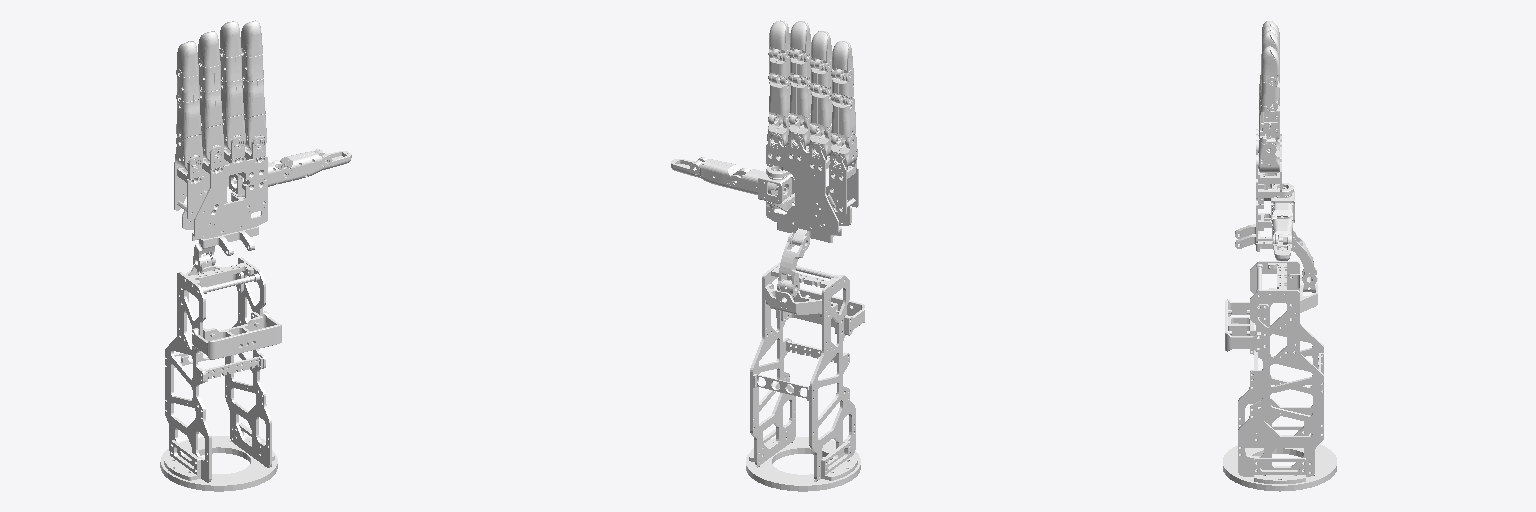
--- What the picture shows (computed from the rendered views, not written in the file) ---
Views: 3 orthographic renders of the robot side by side, from view 1: azimuth 30°, elevation 25°; view 2: azimuth 150°, elevation 25°; view 3: azimuth 270°, elevation 25°.
Robot: dexhand — 33 links, 32 joints (20 revolute, 12 fixed); root link world; default pose: every joint at zero.
Visible links, largest first — view 1: fabase, palm, lfpalm, thmiddle, lfproximal, pmbase, mfproximal, rfproximal, ffproximal, lfbase, rfdistal, lfdistal (+9 smaller); view 2: fabase, palm, lfpalm, falink1, lfproximal, thmiddle, thbase, mfproximal, ffproximal, rfproximal, thproximal, lfbase (+7 smaller); view 3: fabase, palm, ffproximal, falink1, ffbase, pmbase, ffdistal.
Link boxes in pixels (x1=…): fabase: x1=160, y1=257, x2=281, y2=491; palm: x1=182, y1=136, x2=267, y2=238; lfpalm: x1=174, y1=156, x2=206, y2=219; thmiddle: x1=280, y1=150, x2=328, y2=180; lfproximal: x1=176, y1=98, x2=201, y2=139; pmbase: x1=192, y1=226, x2=258, y2=255; mfproximal: x1=221, y1=78, x2=243, y2=119; rfproximal: x1=200, y1=87, x2=222, y2=129; ffproximal: x1=242, y1=78, x2=265, y2=119; lfbase: x1=175, y1=135, x2=202, y2=170; rfdistal: x1=198, y1=31, x2=220, y2=67; lfdistal: x1=177, y1=41, x2=198, y2=77; fabase: x1=746, y1=262, x2=864, y2=491; palm: x1=766, y1=139, x2=851, y2=234; lfpalm: x1=826, y1=159, x2=858, y2=215; falink1: x1=777, y1=232, x2=809, y2=294; lfproximal: x1=831, y1=94, x2=855, y2=137; thmiddle: x1=695, y1=158, x2=740, y2=187; thbase: x1=758, y1=169, x2=793, y2=208; mfproximal: x1=789, y1=74, x2=811, y2=118; ffproximal: x1=769, y1=74, x2=790, y2=117; rfproximal: x1=810, y1=84, x2=832, y2=128; thproximal: x1=729, y1=168, x2=783, y2=195; lfbase: x1=830, y1=134, x2=857, y2=167; fabase: x1=1223, y1=261, x2=1336, y2=491; palm: x1=1256, y1=134, x2=1293, y2=242; ffproximal: x1=1259, y1=101, x2=1279, y2=143; falink1: x1=1292, y1=230, x2=1316, y2=285; ffbase: x1=1258, y1=139, x2=1279, y2=172; pmbase: x1=1235, y1=224, x2=1272, y2=251; ffdistal: x1=1262, y1=46, x2=1279, y2=82.
Size in the robot's own frame: 0.1976 by 0.1099 by 0.4619 metres.
26 mesh visuals loaded from 26 distinct referenced files (26 binary STL).

URDF robot description (dexhand):
<?xml version="1.0" ?>
<!-- =================================================================================== -->
<!-- |    This document was autogenerated by xacro from ./dexhand1.urdf.xacro          | -->
<!-- |    EDITING THIS FILE BY HAND IS NOT RECOMMENDED                                 | -->
<!-- =================================================================================== -->
<robot name="dexhand">
  <!-- create link fixed to the "world" -->
  <link name="world"/>
  <!-- define a joint connect to other part of robot -->
  <joint name="FOREARM" type="fixed">
    <origin rpy="0 0 0" xyz="0 0 0"/>
    <parent link="world"/>
    <child link="fabase"/>
  </joint>
  <!-- pure URDF goes below -->
  <link name="fabase">
    <inertial>
      <origin rpy="0 0 0" xyz="3.28758629066675E-07 -0.00280049370465237 0.0716119954420033"/>
      <mass value="0.116733232194003"/>
      <inertia ixx="0.000208688922136791" ixy="-1.09031140514313E-09" ixz="-2.33671160073293E-11" iyy="0.00019711724481563" iyz="-1.2662112896217E-06" izz="0.000114813277747077"/>
    </inertial>
    <visual>
      <origin rpy="0 0 0" xyz="0 0 0"/>
      <geometry>
        <mesh filename="meshes/fabase.STL"/>
      </geometry>
      <material name="">
        <color rgba="1 1 1 1"/>
      </material>
    </visual>
    <collision>
      <origin rpy="0 0 0" xyz="0 0 0"/>
      <geometry>
        <mesh filename="meshes/fabase.STL"/>
      </geometry>
    </collision>
  </link>
  <link name="falink2">
    <inertial>
      <origin rpy="0 0 0" xyz="8.10398166975479E-09 -4.01177173158664E-10 0.00549999656729894"/>
      <mass value="0.00127776584823899"/>
      <inertia ixx="5.01863386521225E-08" ixy="1.49370815701381E-14" ixz="5.14504997849144E-14" iyy="5.01863212003858E-08" iyz="-1.71620476408047E-14" izz="2.33715865191686E-08"/>
    </inertial>
    <visual>
      <origin rpy="0 0 0" xyz="0 0 0"/>
      <geometry>
        <mesh filename="meshes/falink2.STL"/>
      </geometry>
      <material name="">
        <color rgba="1 1 1 1"/>
      </material>
    </visual>
    <collision>
      <origin rpy="0 0 0" xyz="0 0 0"/>
      <geometry>
        <mesh filename="meshes/falink2.STL"/>
      </geometry>
    </collision>
  </link>
  <joint name="FAJ3" type="fixed">
    <origin rpy="0 0 1.5708" xyz="0 0.028001 0.1905"/>
    <parent link="fabase"/>
    <child link="falink2"/>
    <axis xyz="1 0 0"/>
    <limit acceleration="2.0" effort="0.1" lower="-0.5235" upper="0.5235" velocity="2.0"/>
  </joint>
  <link name="falink1">
    <inertial>
      <origin rpy="0 0 0" xyz="0.000716824630949655 -0.00609542828247423 0.0212910082526262"/>
      <mass value="0.00472896842585646"/>
      <inertia ixx="6.54620610890924E-07" ixy="-4.59836910833344E-09" ixz="-2.31746933177867E-09" iyy="6.07258952527567E-07" iyz="2.13128089899764E-07" izz="2.91836021108035E-07"/>
    </inertial>
    <visual>
      <origin rpy="0 0 0" xyz="0 0 0"/>
      <geometry>
        <mesh filename="meshes/falink1.STL"/>
      </geometry>
      <material name="">
        <color rgba="1 1 1 1"/>
      </material>
    </visual>
    <collision>
      <origin rpy="0 0 0" xyz="0 0 0"/>
      <geometry>
        <mesh filename="meshes/falink1.STL"/>
      </geometry>
    </collision>
  </link>
  <joint name="FAJ2" type="fixed">
    <origin rpy="0 0 -1.5708" xyz="0 0 0.011"/>
    <parent link="falink2"/>
    <child link="falink1"/>
  </joint>
  <link name="pmbase">
    <inertial>
      <origin rpy="0 0 0" xyz="8.53609692686815E-07 -0.024308776882631 0.00431490414497454"/>
      <mass value="0.00601940125483358"/>
      <inertia ixx="1.1544501152982E-06" ixy="3.47744097896483E-15" ixz="3.94374970071965E-14" iyy="1.62966970781033E-06" iyz="-3.95045587346745E-08" izz="2.68292417958557E-06"/>
    </inertial>
    <visual>
      <origin rpy="0 0 0" xyz="0 0 0"/>
      <geometry>
        <mesh filename="meshes/pmbase.STL"/>
      </geometry>
      <material name="">
        <color rgba="1 1 1 1"/>
      </material>
    </visual>
    <collision>
      <origin rpy="0 0 0" xyz="0 0 0"/>
      <geometry>
        <mesh filename="meshes/pmbase.STL"/>
      </geometry>
    </collision>
  </link>
  <joint name="FAJ1" type="fixed">
    <origin rpy="0 0 0" xyz="0 -0.0193 0.039"/>
    <parent link="falink1"/>
    <child link="pmbase"/>
    <axis xyz="-1 0 0"/>
    <limit acceleration="2.0" effort="0.1" lower="-0.2618" upper="0.5235" velocity="2.0"/>
  </joint>
  <!-- define a joint connect to other part of robot -->
  <joint name="PALM" type="fixed">
    <origin rpy="0 0 0" xyz="0 -0.0193 0.01"/>
    <parent link="pmbase"/>
    <child link="palm"/>
  </joint>
  <!-- pure URDF goes below -->
  <link name="palm">
    <inertial>
      <origin rpy="0 0 0" xyz="0.00467315921354322 -7.47612565492224E-06 0.0411612387388328"/>
      <mass value="0.0289828312541729"/>
      <inertia ixx="1.04474964158207E-05" ixy="1.02450222919575E-10" ixz="-1.80668551272074E-06" iyy="1.71178957503239E-05" iyz="2.35190736196329E-08" izz="8.47407472988603E-06"/>
    </inertial>
    <visual>
      <origin rpy="0 0 0" xyz="0 0 0"/>
      <geometry>
        <mesh filename="meshes/palm.STL"/>
      </geometry>
      <material name="">
        <color rgba="1 1 1 1"/>
      </material>
    </visual>
    <collision>
      <origin rpy="0 0 0" xyz="0 0 0"/>
      <geometry>
        <mesh filename="meshes/palm.STL"/>
      </geometry>
    </collision>
  </link>
  <link name="thbase">
    <inertial>
      <origin rpy="0 0 0" xyz="-0.00179428684346725 2.09600788479009E-08 0.00147248530806168"/>
      <mass value="0.00644352672209423"/>
      <inertia ixx="5.42712823895272E-07" ixy="4.57090657604939E-14" ixz="-2.41334457846003E-09" iyy="6.96430068620061E-07" iyz="2.45814092128719E-13" izz="8.14232088259366E-07"/>
    </inertial>
    <visual>
      <origin rpy="0 0 0" xyz="0 0 0"/>
      <geometry>
        <mesh filename="meshes/thbase.STL"/>
      </geometry>
      <material name="">
        <color rgba="1 1 1 1"/>
      </material>
    </visual>
    <collision>
      <origin rpy="0 0 0" xyz="0 0 0"/>
      <geometry>
        <mesh filename="meshes/thbase.STL"/>
      </geometry>
    </collision>
  </link>
  <joint name="THJ4" type="revolute">
    <origin rpy="3.14159 -1.5708 0" xyz="0.026851 0.01315 0.038"/>
    <parent link="palm"/>
    <child link="thbase"/>
    <axis xyz="1 0 0"/>
    <limit acceleration="2.0" effort="0.1" lower="-0.08" upper="1.5708" velocity="2.0"/>
  </joint>
  <link name="thproximal">
    <inertial>
      <origin rpy="0 0 0" xyz="0.00638369419270039 -8.78508188083445E-06 -0.000318318507908692"/>
      <mass value="0.00874436649921006"/>
      <inertia ixx="3.75939070373561E-07" ixy="-6.07919194575409E-09" ixz="7.50903074913542E-08" iyy="8.31777797638259E-07" iyz="-3.81373430695677E-09" izz="6.69794720992556E-07"/>
    </inertial>
    <visual>
      <origin rpy="0 0 0" xyz="0 0 0"/>
      <geometry>
        <mesh filename="meshes/thproximal.STL"/>
      </geometry>
      <material name="">
        <color rgba="1 1 1 1"/>
      </material>
    </visual>
    <collision>
      <origin rpy="0 0 0" xyz="0 0 0"/>
      <geometry>
        <mesh filename="meshes/thproximal.STL"/>
      </geometry>
    </collision>
  </link>
  <joint name="THJ3" type="revolute">
    <origin rpy="-1.5708 -1.5708 -1.5708" xyz="0 0 0.01575"/>
    <parent link="thbase"/>
    <child link="thproximal"/>
    <axis xyz="-1 0 0"/>
    <limit acceleration="2.0" effort="0.1" lower="0.0" upper="0.7854" velocity="2.0"/>
  </joint>
  <link name="thmiddle">
    <inertial>
      <origin rpy="0 0 0" xyz="-0.000696295114692514 0.000275414873780168 0.0255327021512566"/>
      <mass value="0.00591298052561849"/>
      <inertia ixx="1.06964496585371E-06" ixy="4.52496488925683E-09" ixz="-9.43881698085712E-09" iyy="8.9138484793407E-07" iyz="-2.36519713662575E-09" izz="2.4504036267044E-07"/>
    </inertial>
    <visual>
      <origin rpy="0 0 0" xyz="0 0 0"/>
      <geometry>
        <mesh filename="meshes/thmiddle.STL"/>
      </geometry>
      <material name="">
        <color rgba="1 1 1 1"/>
      </material>
    </visual>
    <collision>
      <origin rpy="0 0 0" xyz="0 0 0"/>
      <geometry>
        <mesh filename="meshes/thmiddle.STL"/>
      </geometry>
    </collision>
  </link>
  <joint name="THJ2" type="revolute">
    <origin rpy="1.5708 0 1.5708" xyz="0.025 0 0"/>
    <parent link="thproximal"/>
    <child link="thmiddle"/>
    <axis xyz="-1 0 0"/>
    <limit acceleration="2.0" effort="0.1" lower="0" upper="0.7854" velocity="2.0"/>
  </joint>
  <link name="thdistal">
    <inertial>
      <origin rpy="0 0 0" xyz="6.64428156433462E-05 -0.00522038889406494 0.0138629509312514"/>
      <mass value="0.0026081529494485"/>
      <inertia ixx="2.4445745986031E-07" ixy="-8.87971073806119E-10" ixz="2.3829151125442E-09" iyy="3.00016476075754E-07" iyz="2.34308014393757E-08" izz="1.03721856739173E-07"/>
    </inertial>
    <visual>
      <origin rpy="0 0 0" xyz="0 0 0"/>
      <geometry>
        <mesh filename="meshes/thdistal.STL"/>
      </geometry>
      <material name="">
        <color rgba="1 1 1 1"/>
      </material>
    </visual>
    <collision>
      <origin rpy="0 0 0" xyz="0 0 0"/>
      <geometry>
        <mesh filename="meshes/thdistal.STL"/>
      </geometry>
    </collision>
  </link>
  <joint name="THJ1" type="revolute">
    <origin rpy="0 0 0" xyz="0 0.003 0.045"/>
    <parent link="thmiddle"/>
    <child link="thdistal"/>
    <axis xyz="-1 0 0"/>
    <limit acceleration="2.0" effort="0.1" lower="0.0" upper="1.5708" velocity="2.0"/>
  </joint>
  <link name="thtip">
  </link>
  <joint name="THJ0" type="fixed">
    <origin rpy="0 0 0" xyz="0 -0.0015 0.0297"/>
    <parent link="thdistal"/>
    <child link="thtip"/>
    <axis xyz="0 0 0"/>
  </joint>
  <link name="ffbase">
    <inertial>
      <origin rpy="0 0 0" xyz="-0.00112189286961021 0.000208475541508962 0.00617879877072101"/>
      <mass value="0.00757937353888617"/>
      <inertia ixx="4.40333843672738E-07" ixy="-1.02490543565402E-09" ixz="4.38718638849792E-08" iyy="5.89927525754156E-07" iyz="-3.16407618692666E-09" izz="3.37649595953186E-07"/>
    </inertial>
    <visual>
      <origin rpy="0 0 0" xyz="0 0 0"/>
      <geometry>
        <mesh filename="meshes/ffbase.STL"/>
      </geometry>
      <material name="">
        <color rgba="1 1 1 1"/>
      </material>
    </visual>
    <collision>
      <origin rpy="0 0 0" xyz="0 0 0"/>
      <geometry>
        <mesh filename="meshes/ffbase.STL"/>
      </geometry>
    </collision>
  </link>
  <joint name="FFJ4" type="revolute">
    <origin rpy="0 0 1.5708" xyz="0.030504 0.00045 0.0855"/>
    <parent link="palm"/>
    <child link="ffbase"/>
    <axis xyz="1 0 0"/>
    <limit acceleration="2.0" effort="0.1" lower="-0.1309" upper="0.1309" velocity="2.0"/>
  </joint>
  <link name="ffproximal">
    <inertial>
      <origin rpy="0 0 0" xyz="-0.00196718827387735 -0.000248547242294944 0.0263051638016935"/>
      <mass value="0.00551109036052712"/>
      <inertia ixx="1.03795704448418E-06" ixy="9.78527304732066E-09" ixz="-1.65538602717097E-08" iyy="8.70275327312006E-07" iyz="2.11379894396707E-08" izz="2.37607854319465E-07"/>
    </inertial>
    <visual>
      <origin rpy="0 0 0" xyz="0 0 0"/>
      <geometry>
        <mesh filename="meshes/ffproximal.STL"/>
      </geometry>
      <material name="">
        <color rgba="1 1 1 1"/>
      </material>
    </visual>
    <collision>
      <origin rpy="0 0 0" xyz="0 0 0"/>
      <geometry>
        <mesh filename="meshes/ffproximal.STL"/>
      </geometry>
    </collision>
  </link>
  <joint name="FFJ3" type="revolute">
    <origin rpy="0 0 -1.5708" xyz="0 0 0.018"/>
    <parent link="ffbase"/>
    <child link="ffproximal"/>
    <axis xyz="-1 0 0"/>
    <limit acceleration="2.0" effort="0.1" lower="0.0" upper="1.5708" velocity="2.0"/>
  </joint>
  <link name="ffmiddle">
    <inertial>
      <origin rpy="0 0 0" xyz="0.000382629545805049 -0.00305057294683708 0.0123468373884281"/>
      <mass value="0.00397399477571205"/>
      <inertia ixx="3.35444191564615E-07" ixy="1.38344669695991E-09" ixz="4.95002685384417E-10" iyy="2.47384897956612E-07" iyz="-2.70391779997592E-09" izz="1.30213703964171E-07"/>
    </inertial>
    <visual>
      <origin rpy="0 0 0" xyz="0 0 0"/>
      <geometry>
        <mesh filename="meshes/ffmiddle.STL"/>
      </geometry>
      <material name="">
        <color rgba="1 1 1 1"/>
      </material>
    </visual>
    <collision>
      <origin rpy="0 0 0" xyz="0 0 0"/>
      <geometry>
        <mesh filename="meshes/ffmiddle.STL"/>
      </geometry>
    </collision>
  </link>
  <joint name="FFJ2" type="revolute">
    <origin rpy="0 0 0" xyz="0 0.003 0.045"/>
    <parent link="ffproximal"/>
    <child link="ffmiddle"/>
    <axis xyz="-1 0 0"/>
    <limit acceleration="2.0" effort="0.1" lower="0.0" upper="1.5708" velocity="2.0"/>
  </joint>
  <link name="ffdistal">
    <inertial>
      <origin rpy="0 0 0" xyz="0.00010613110729394 -0.00174210782128108 0.0146517272199787"/>
      <mass value="0.00588197848950502"/>
      <inertia ixx="4.26396352053566E-07" ixy="4.26289208202645E-10" ixz="-4.45633109841644E-09" iyy="4.68862862225653E-07" iyz="3.43678418970898E-08" izz="1.5593360356169E-07"/>
    </inertial>
    <visual>
      <origin rpy="0 0 0" xyz="0 0 0"/>
      <geometry>
        <mesh filename="meshes/ffdistal.STL"/>
      </geometry>
      <material name="">
        <color rgba="1 1 1 1"/>
      </material>
    </visual>
    <collision>
      <origin rpy="0 0 0" xyz="0 0 0"/>
      <geometry>
        <mesh filename="meshes/ffdistal.STL"/>
      </geometry>
    </collision>
  </link>
  <joint name="FFJ1" type="revolute">
    <origin rpy="0 0 0" xyz="0 0 0.025"/>
    <parent link="ffmiddle"/>
    <child link="ffdistal"/>
    <axis xyz="-1 0 0"/>
    <limit acceleration="2.0" effort="0.1" lower="0.0" upper="1.5708" velocity="2.0"/>
  </joint>
  <link name="fftip">
  </link>
  <joint name="FFJ0" type="fixed">
    <origin rpy="0 0 0" xyz="0 -0.0023033 0.03281"/>
    <parent link="ffdistal"/>
    <child link="fftip"/>
    <axis xyz="0 0 0"/>
  </joint>
  <link name="mfbase">
    <inertial>
      <origin rpy="0 0 0" xyz="-0.00112189286961018 0.000208475541508975 0.00617879877072106"/>
      <mass value="0.00757937353888616"/>
      <inertia ixx="4.40333843672737E-07" ixy="-1.02490543565387E-09" ixz="4.38718638849789E-08" iyy="5.89927525754155E-07" iyz="-3.16407618692692E-09" izz="3.37649595953185E-07"/>
    </inertial>
    <visual>
      <origin rpy="0 0 0" xyz="0 0 0"/>
      <geometry>
        <mesh filename="meshes/mfbase.STL"/>
      </geometry>
      <material name="">
        <color rgba="1 1 1 1"/>
      </material>
    </visual>
    <collision>
      <origin rpy="0 0 0" xyz="0 0 0"/>
      <geometry>
        <mesh filename="meshes/mfbase.STL"/>
      </geometry>
    </collision>
  </link>
  <joint name="MFJ4" type="revolute">
    <origin rpy="0 0 1.5708" xyz="0.0075044 0.00045 0.0905"/>
    <parent link="palm"/>
    <child link="mfbase"/>
    <axis xyz="1 0 0"/>
    <limit acceleration="2.0" effort="0.1" lower="-0.2616" upper="0.2616" velocity="2.0"/>
  </joint>
  <link name="mfproximal">
    <inertial>
      <origin rpy="0 0 0" xyz="-0.00196718827387734 -0.000248547242294942 0.0263051638016935"/>
      <mass value="0.00551109036052712"/>
      <inertia ixx="1.03795704448418E-06" ixy="9.78527304732057E-09" ixz="-1.65538602717095E-08" iyy="8.70275327312005E-07" iyz="2.11379894396709E-08" izz="2.37607854319465E-07"/>
    </inertial>
    <visual>
      <origin rpy="0 0 0" xyz="0 0 0"/>
      <geometry>
        <mesh filename="meshes/mfproximal.STL"/>
      </geometry>
      <material name="">
        <color rgba="1 1 1 1"/>
      </material>
    </visual>
    <collision>
      <origin rpy="0 0 0" xyz="0 0 0"/>
      <geometry>
        <mesh filename="meshes/mfproximal.STL"/>
      </geometry>
    </collision>
  </link>
  <joint name="MFJ3" type="revolute">
    <origin rpy="0 0 -1.5708" xyz="0 0 0.018"/>
    <parent link="mfbase"/>
    <child link="mfproximal"/>
    <axis xyz="-1 0 0"/>
    <limit acceleration="2.0" effort="0.1" lower="0.0" upper="1.5708" velocity="2.0"/>
  </joint>
  <link name="mfmiddle">
    <inertial>
      <origin rpy="0 0 0" xyz="0.000382629545805061 -0.00305057294683722 0.0123468373884282"/>
      <mass value="0.00397399477571206"/>
      <inertia ixx="3.35444191564803E-07" ixy="1.38344669695981E-09" ixz="4.95002685384687E-10" iyy="2.47384897956613E-07" iyz="-2.703917799971E-09" izz="1.30213703964359E-07"/>
    </inertial>
    <visual>
      <origin rpy="0 0 0" xyz="0 0 0"/>
      <geometry>
        <mesh filename="meshes/mfmiddle.STL"/>
      </geometry>
      <material name="">
        <color rgba="1 1 1 1"/>
      </material>
    </visual>
    <collision>
      <origin rpy="0 0 0" xyz="0 0 0"/>
      <geometry>
        <mesh filename="meshes/mfmiddle.STL"/>
      </geometry>
    </collision>
  </link>
  <joint name="MFJ2" type="revolute">
    <origin rpy="0 0 0" xyz="0 0.003 0.045"/>
    <parent link="mfproximal"/>
    <child link="mfmiddle"/>
    <axis xyz="-1 0 0"/>
    <limit acceleration="2.0" effort="0.1" lower="0.0" upper="1.5708" velocity="2.0"/>
  </joint>
  <link name="mfdistal">
    <inertial>
      <origin rpy="0 0 0" xyz="0.000106134004411035 -0.00174210903101383 0.0146517228171518"/>
      <mass value="0.00588198032947831"/>
      <inertia ixx="4.2639635533418E-07" ixy="4.26298827754549E-10" ixz="-4.45631713308347E-09" iyy="4.68862859926092E-07" iyz="3.43678259360068E-08" izz="1.55933618695065E-07"/>
    </inertial>
    <visual>
      <origin rpy="0 0 0" xyz="0 0 0"/>
      <geometry>
        <mesh filename="meshes/mfdistal.STL"/>
      </geometry>
      <material name="">
        <color rgba="1 1 1 1"/>
      </material>
    </visual>
    <collision>
      <origin rpy="0 0 0" xyz="0 0 0"/>
      <geometry>
        <mesh filename="meshes/mfdistal.STL"/>
      </geometry>
    </collision>
  </link>
  <joint name="MFJ1" type="revolute">
    <origin rpy="0 0 0" xyz="0 0 0.025"/>
    <parent link="mfmiddle"/>
    <child link="mfdistal"/>
    <axis xyz="-1 0 0"/>
    <limit acceleration="2.0" effort="0.1" lower="0.0" upper="1.5708" velocity="2.0"/>
  </joint>
  <link name="mftip">
  </link>
  <joint name="MFJ0" type="fixed">
    <origin rpy="0 0 0" xyz="0 -0.0023033 0.03281"/>
    <parent link="mfdistal"/>
    <child link="mftip"/>
    <axis xyz="0 0 0"/>
  </joint>
  <link name="rfbase">
    <inertial>
      <origin rpy="0 0 0" xyz="-0.00112189286961019 0.000208475541508962 0.00617879877072104"/>
      <mass value="0.00757937353888616"/>
      <inertia ixx="4.40333843672737E-07" ixy="-1.02490543565392E-09" ixz="4.38718638849791E-08" iyy="5.89927525754155E-07" iyz="-3.16407618692704E-09" izz="3.37649595953185E-07"/>
    </inertial>
    <visual>
      <origin rpy="0 0 0" xyz="0 0 0"/>
      <geometry>
        <mesh filename="meshes/rfbase.STL"/>
      </geometry>
      <material name="">
        <color rgba="1 1 1 1"/>
      </material>
    </visual>
    <collision>
      <origin rpy="0 0 0" xyz="0 0 0"/>
      <geometry>
        <mesh filename="meshes/rfbase.STL"/>
      </geometry>
    </collision>
  </link>
  <joint name="RFJ4" type="revolute">
    <origin rpy="0 0 1.5708" xyz="-0.015496 0.00045 0.0855"/>
    <parent link="palm"/>
    <child link="rfbase"/>
    <axis xyz="1 0 0"/>
    <limit acceleration="2.0" effort="0.1" lower="-0.2616" upper="0.2616" velocity="2.0"/>
  </joint>
  <link name="rfproximal">
    <inertial>
      <origin rpy="0 0 0" xyz="-0.00196718827387735 -0.000248547242294945 0.0263051638016935"/>
      <mass value="0.00551109036052711"/>
      <inertia ixx="1.03795704448418E-06" ixy="9.78527304732063E-09" ixz="-1.65538602717104E-08" iyy="8.70275327312006E-07" iyz="2.11379894396705E-08" izz="2.37607854319463E-07"/>
    </inertial>
    <visual>
      <origin rpy="0 0 0" xyz="0 0 0"/>
      <geometry>
        <mesh filename="meshes/rfproximal.STL"/>
      </geometry>
      <material name="">
        <color rgba="1 1 1 1"/>
      </material>
    </visual>
    <collision>
      <origin rpy="0 0 0" xyz="0 0 0"/>
      <geometry>
        <mesh filename="meshes/rfproximal.STL"/>
      </geometry>
    </collision>
  </link>
  <joint name="RFJ3" type="revolute">
    <origin rpy="0 0 -1.5708" xyz="0 0 0.018"/>
    <parent link="rfbase"/>
    <child link="rfproximal"/>
    <axis xyz="-1 0 0"/>
    <limit acceleration="2.0" effort="0.1" lower="0.0" upper="1.5708" velocity="2.0"/>
  </joint>
  <link name="rfmiddle">
    <inertial>
      <origin rpy="0 0 0" xyz="0.000382629545805044 -0.00305057294683722 0.0123468373884282"/>
      <mass value="0.00397399477571206"/>
      <inertia ixx="3.3544419156483E-07" ixy="1.38344669695899E-09" ixz="4.95002685384575E-10" iyy="2.47384897956613E-07" iyz="-2.7039177999714E-09" izz="1.30213703964385E-07"/>
    </inertial>
    <visual>
      <origin rpy="0 0 0" xyz="0 0 0"/>
      <geometry>
        <mesh filename="meshes/rfmiddle.STL"/>
      </geometry>
      <material name="">
        <color rgba="1 1 1 1"/>
      </material>
    </visual>
    <collision>
      <origin rpy="0 0 0" xyz="0 0 0"/>
      <geometry>
        <mesh filename="meshes/rfmiddle.STL"/>
      </geometry>
    </collision>
  </link>
  <joint name="RFJ2" type="revolute">
    <origin rpy="0 0 0" xyz="0 0.003 0.045"/>
    <parent link="rfproximal"/>
    <child link="rfmiddle"/>
    <axis xyz="-1 0 0"/>
    <limit acceleration="2.0" effort="0.1" lower="0.0" upper="1.5708" velocity="2.0"/>
  </joint>
  <link name="rfdistal">
    <inertial>
      <origin rpy="0 0 0" xyz="0.000105533826227052 -0.00174245491421043 0.0146518770270997"/>
      <mass value="0.00588145131515303"/>
      <inertia ixx="4.26346619813091E-07" ixy="4.55156716114043E-10" ixz="-4.46484447447954E-09" iyy="4.68820009905352E-07" iyz="3.43579383267477E-08" izz="1.55875343716759E-07"/>
    </inertial>
    <visual>
      <origin rpy="0 0 0" xyz="0 0 0"/>
      <geometry>
        <mesh filename="meshes/rfdistal.STL"/>
      </geometry>
      <material name="">
        <color rgba="1 1 1 1"/>
      </material>
    </visual>
    <collision>
      <origin rpy="0 0 0" xyz="0 0 0"/>
      <geometry>
        <mesh filename="meshes/rfdistal.STL"/>
      </geometry>
    </collision>
  </link>
  <joint name="RFJ1" type="revolute">
    <origin rpy="0 0 0" xyz="0 0 0.025"/>
    <parent link="rfmiddle"/>
    <child link="rfdistal"/>
    <axis xyz="-1 0 0"/>
    <limit acceleration="2.0" effort="0.1" lower="0.0" upper="1.5708" velocity="2.0"/>
  </joint>
  <link name="rftip">
  </link>
  <joint name="RFJ0" type="fixed">
    <origin rpy="0 0 0" xyz="0 -0.0023033 0.03281"/>
    <parent link="rfdistal"/>
    <child link="rftip"/>
    <axis xyz="0 0 0"/>
  </joint>
  <link name="lfpalm">
    <inertial>
      <origin rpy="0 0 0" xyz="0.00952070102948792 -0.000716360636126134 0.0177911371602309"/>
      <mass value="0.00678369782170271"/>
      <inertia ixx="4.10675769110166E-07" ixy="3.05378125911323E-08" ixz="-1.43648699262145E-07" iyy="6.84885914107377E-07" iyz="1.21865059132884E-08" izz="5.84455425338444E-07"/>
    </inertial>
    <visual>
      <origin rpy="0 0 0" xyz="0 0 0"/>
      <geometry>
        <mesh filename="meshes/lfpalm.STL"/>
      </geometry>
      <material name="">
        <color rgba="1 1 1 1"/>
      </material>
    </visual>
    <collision>
      <origin rpy="0 0 0" xyz="0 0 0"/>
      <geometry>
        <mesh filename="meshes/lfpalm.STL"/>
      </geometry>
    </collision>
  </link>
  <joint name="LFJ5" type="fixed">
    <origin rpy="0 -1.0472 0" xyz="-0.025779 0 0.032848"/>
    <parent link="palm"/>
    <child link="lfpalm"/>
    <axis xyz="-1 0 0"/>
    <limit acceleration="2.0" effort="0.1" lower="0.0" upper="1.5708" velocity="2.0"/>
  </joint>
  <link name="lfbase">
    <inertial>
      <origin rpy="0 0 0" xyz="-0.00112189286961001 0.000208475541513729 0.0061787987707209"/>
      <mass value="0.00757937353888615"/>
      <inertia ixx="4.40333843672739E-07" ixy="-1.02490543562026E-09" ixz="4.38718638849765E-08" iyy="5.89927525754149E-07" iyz="-3.16407618712094E-09" izz="3.37649595953187E-07"/>
    </inertial>
    <visual>
      <origin rpy="0 0 0" xyz="0 0 0"/>
      <geometry>
        <mesh filename="meshes/lfbase.STL"/>
      </geometry>
      <material name="">
        <color rgba="1 1 1 1"/>
      </material>
    </visual>
    <collision>
      <origin rpy="0 0 0" xyz="0 0 0"/>
      <geometry>
        <mesh filename="meshes/lfbase.STL"/>
      </geometry>
    </collision>
  </link>
  <joint name="LFJ4" type="revolute">
    <origin rpy="1.0472 0 1.5708" xyz="0.034911 0.00045 0.034839"/>
    <parent link="lfpalm"/>
    <child link="lfbase"/>
    <axis xyz="1 0 0"/>
    <limit acceleration="2.0" effort="0.1" lower="-0.2616" upper="0.2616" velocity="2.0"/>
  </joint>
  <link name="lfproximal">
    <inertial>
      <origin rpy="0 0 0" xyz="-0.00196718827389752 -0.000248547242294942 0.026305163801692"/>
      <mass value="0.00551109036052711"/>
      <inertia ixx="1.0379570444842E-06" ixy="9.78527304730434E-09" ixz="-1.65538602710957E-08" iyy="8.70275327312005E-07" iyz="2.11379894396788E-08" izz="2.37607854319437E-07"/>
    </inertial>
    <visual>
      <origin rpy="0 0 0" xyz="0 0 0"/>
      <geometry>
        <mesh filename="meshes/lfproximal.STL"/>
      </geometry>
      <material name="">
        <color rgba="1 1 1 1"/>
      </material>
    </visual>
    <collision>
      <origin rpy="0 0 0" xyz="0 0 0"/>
      <geometry>
        <mesh filename="meshes/lfproximal.STL"/>
      </geometry>
    </collision>
  </link>
  <joint name="LFJ3" type="revolute">
    <origin rpy="0 0 -1.5708" xyz="0 0 0.018"/>
    <parent link="lfbase"/>
    <child link="lfproximal"/>
    <axis xyz="-1 0 0"/>
    <limit acceleration="2.0" effort="0.1" lower="0.0" upper="1.5708" velocity="2.0"/>
  </joint>
  <link name="lfmiddle">
    <inertial>
      <origin rpy="0 0 0" xyz="0.000382629545795585 -0.00305057294683723 0.0123468373884285"/>
      <mass value="0.00397399477571205"/>
      <inertia ixx="3.35444191564547E-07" ixy="1.38344669696349E-09" ixz="4.95002685542594E-10" iyy="2.47384897956285E-07" iyz="-2.70391779997448E-09" izz="1.30213703964431E-07"/>
    </inertial>
    <visual>
      <origin rpy="0 0 0" xyz="0 0 0"/>
      <geometry>
        <mesh filename="meshes/lfmiddle.STL"/>
      </geometry>
      <material name="">
        <color rgba="1 1 1 1"/>
      </material>
    </visual>
    <collision>
      <origin rpy="0 0 0" xyz="0 0 0"/>
      <geometry>
        <mesh filename="meshes/lfmiddle.STL"/>
      </geometry>
    </collision>
  </link>
  <joint name="LFJ2" type="revolute">
    <origin rpy="0 0 0" xyz="0 0.003 0.045"/>
    <parent link="lfproximal"/>
    <child link="lfmiddle"/>
    <axis xyz="-1 0 0"/>
    <limit acceleration="2.0" effort="0.1" lower="0.0" upper="1.5708" velocity="2.0"/>
  </joint>
  <link name="lfdistal">
    <inertial>
      <origin rpy="0 0 0" xyz="0.000105517467005448 -0.00174246287824984 0.0146518725605457"/>
      <mass value="0.00588144497831721"/>
      <inertia ixx="4.26347396534589E-07" ixy="4.55104706366137E-10" ixz="-4.4640805732829E-09" iyy="4.68819653775823E-07" iyz="3.43585680004646E-08" izz="1.55874900663911E-07"/>
    </inertial>
    <visual>
      <origin rpy="0 0 0" xyz="0 0 0"/>
      <geometry>
        <mesh filename="meshes/lfdistal.STL"/>
      </geometry>
      <material name="">
        <color rgba="1 1 1 1"/>
      </material>
    </visual>
    <collision>
      <origin rpy="0 0 0" xyz="0 0 0"/>
      <geometry>
        <mesh filename="meshes/lfdistal.STL"/>
      </geometry>
    </collision>
  </link>
  <joint name="LFJ1" type="revolute">
    <origin rpy="0 0 0" xyz="0 0 0.025"/>
    <parent link="lfmiddle"/>
    <child link="lfdistal"/>
    <axis xyz="-1 0 0"/>
    <limit acceleration="2.0" effort="0.1" lower="0.0" upper="1.5708" velocity="2.0"/>
  </joint>
  <link name="lftip">
  </link>
  <joint name="LFJ0" type="fixed">
    <origin rpy="0 0 0" xyz="0 -0.0023033 0.03281"/>
    <parent link="lfdistal"/>
    <child link="lftip"/>
    <axis xyz="0 0 0"/>
  </joint>
  <link name="central">
  </link>
  <joint name="CJ0" type="fixed">
    <origin rpy="0 0 0" xyz="0 0.01265 0.045"/>
    <parent link="palm"/>
    <child link="central"/>
    <axis xyz="0 0 0"/>
  </joint>
  <!-- construct pure URDF end -->
</robot>
